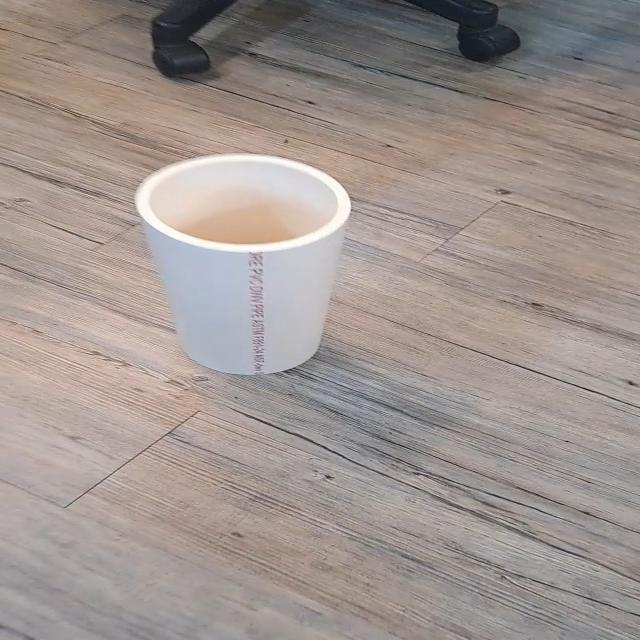CORAL: (96, 136, 428, 398)
